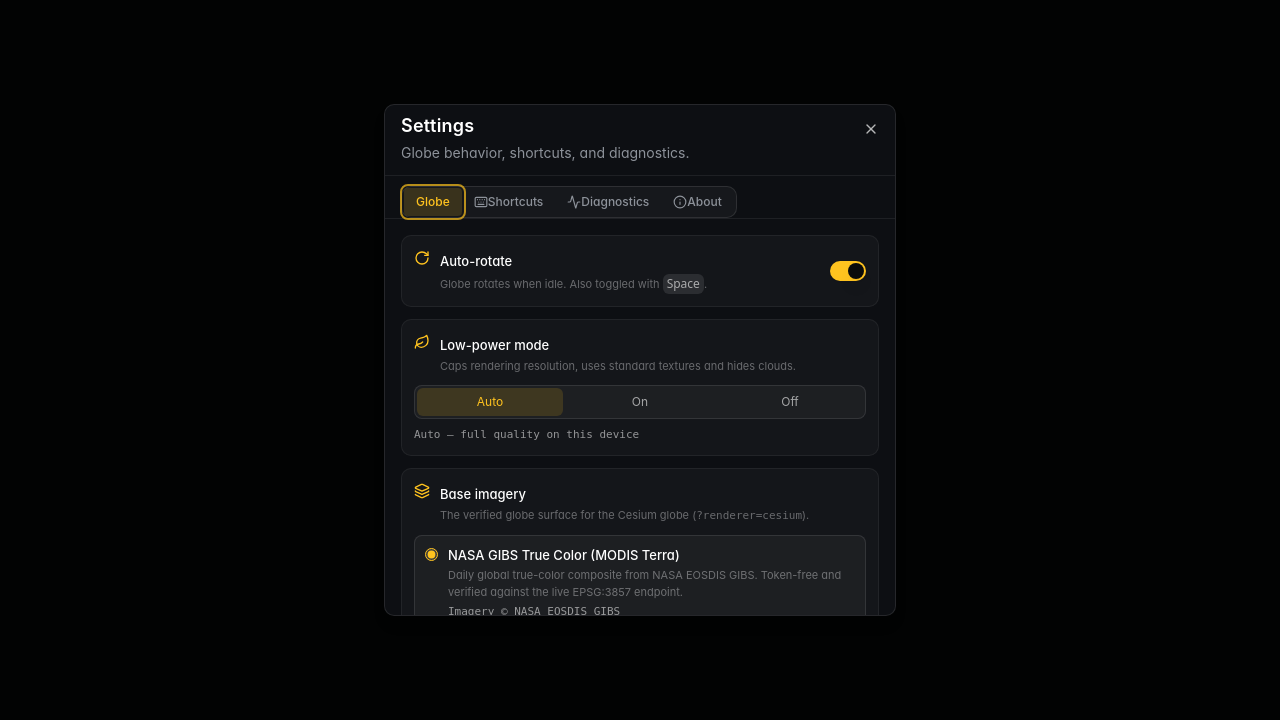
Test: SettingsModal responsive layout (T3.9) › About tab shows version and data sources
Press the mouse on the tab "About" at [698, 202], box [661, 188, 734, 216]
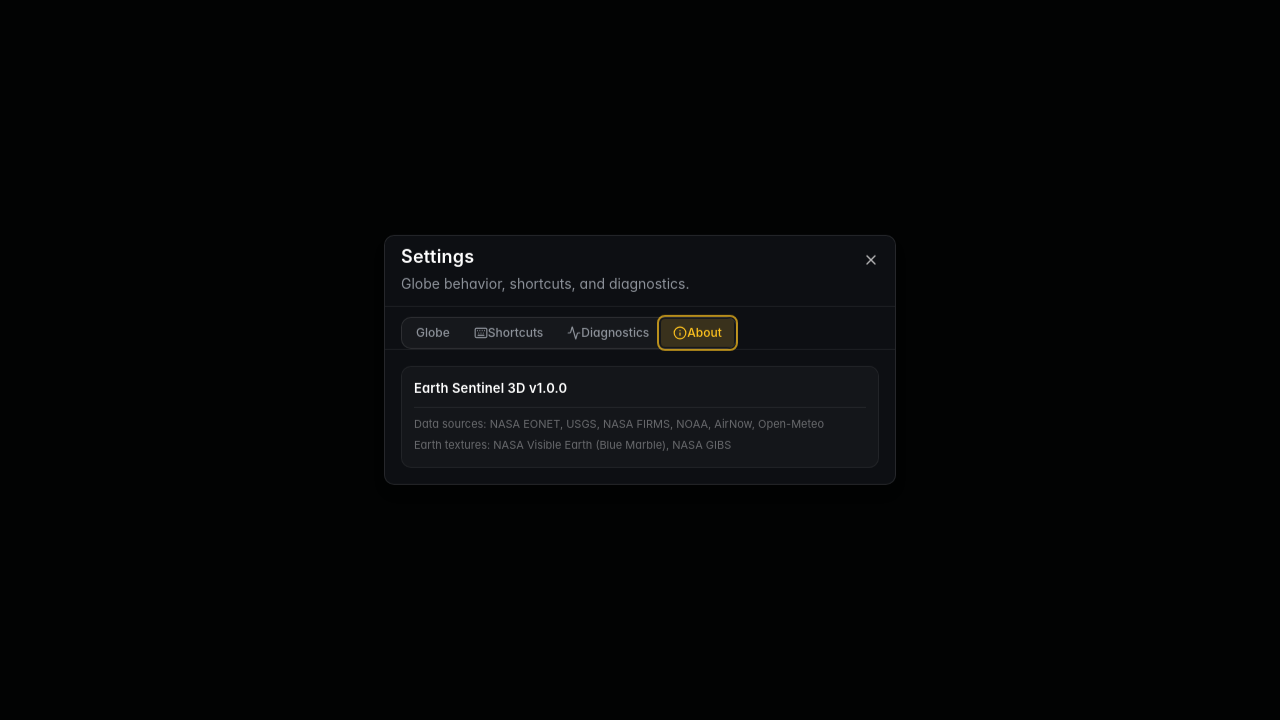
Check: the text "Earth Sentinel 3D v1.0.0" is shown, box [414, 380, 567, 396]
Check: the text "Data sources:" is shown, box [414, 416, 824, 430]
Check: the text "Earth textures: NASA Visible Earth (Blue Marble), NASA GIBS" is shown, box [414, 438, 731, 452]
